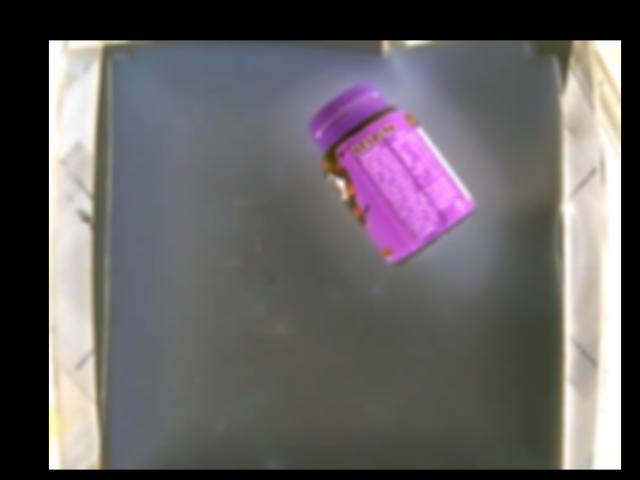Bottle: (305, 80, 478, 264)
